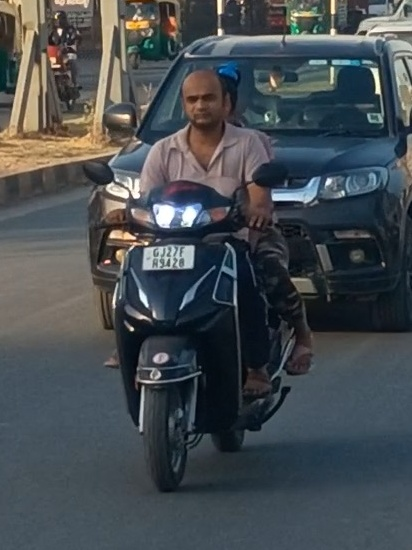BikeWithRider: (73, 58, 324, 498)
NoHelmet: (173, 64, 236, 134)
